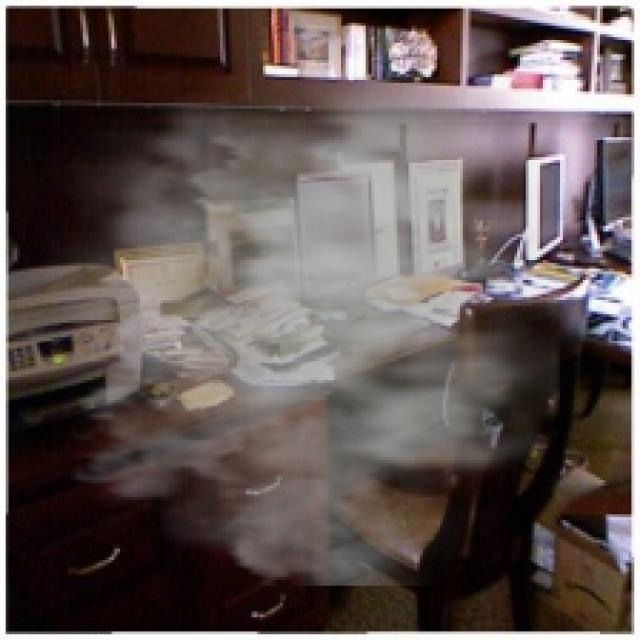Smoke: (20, 57, 560, 586)
